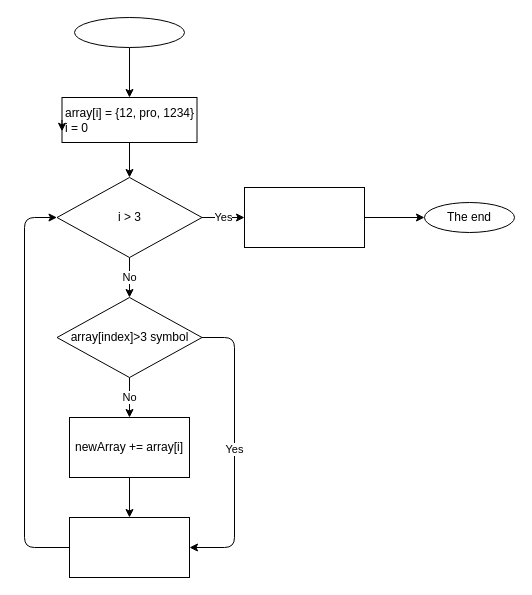
The diagram is 532 pixels wide and 595 high, and some of its shapes have lost their labels. The box of each missing label's shape, as (x1, y1, x2, y2) in pixels:
i++: (68, 516, 190, 578)
Print newArray: (244, 186, 364, 248)
Start: (74, 16, 184, 48)
